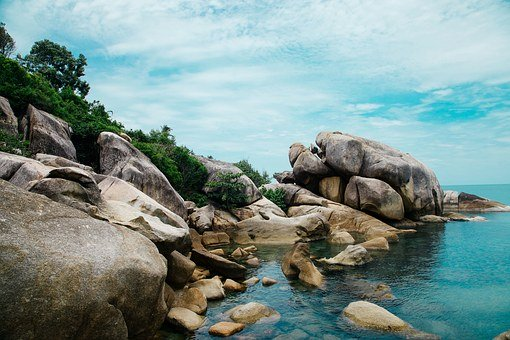sea: (163, 173, 501, 340)
sky: (45, 2, 510, 132)
stone: (11, 119, 425, 340)
